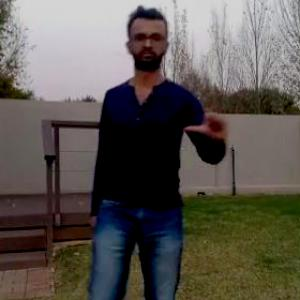land_hand: (181, 80, 230, 142)
